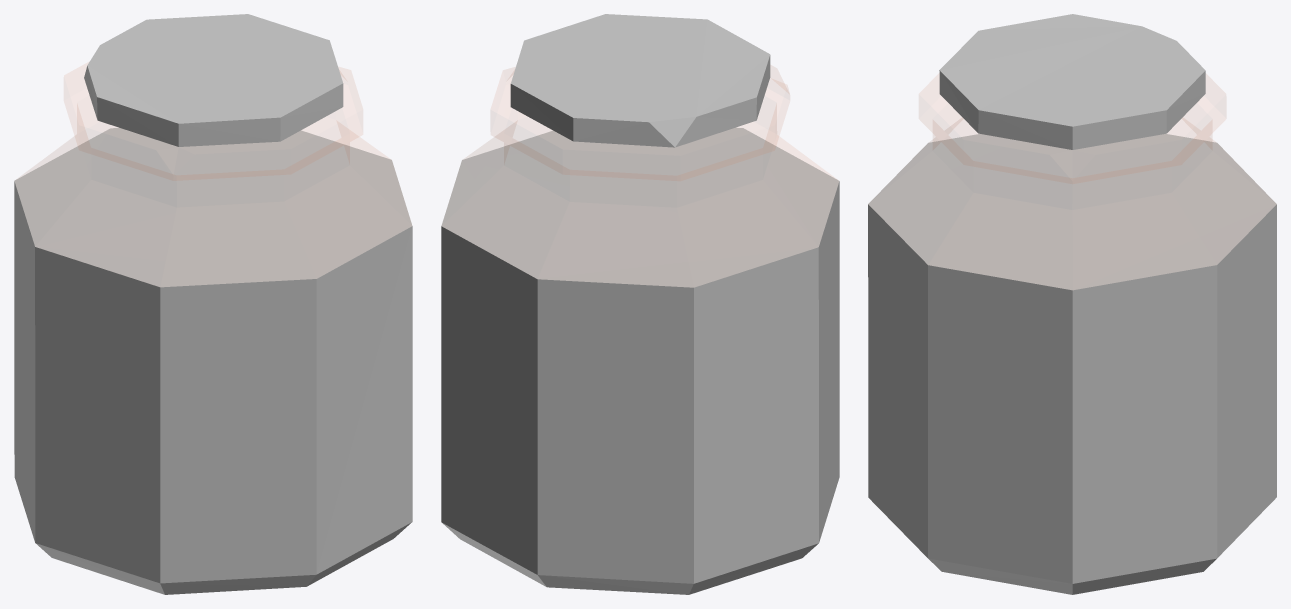
The model's file is SFI_Jar_004.fbx.
3 renders of one model, left to right at view 1: azimuth 30°, elevation 25°; view 2: azimuth 150°, elevation 25°; view 3: azimuth 270°, elevation 25°, orthographic.
Parts seen in each view (by area): view 1: SFI_Jar_004; view 2: SFI_Jar_004; view 3: SFI_Jar_004.
Boxes of the visible parts, x1=… form: SFI_Jar_004: x1=14, y1=14, x2=412, y2=594; SFI_Jar_004: x1=441, y1=14, x2=839, y2=594; SFI_Jar_004: x1=868, y1=14, x2=1276, y2=594.
Bounding box in the file's own units: 10.25 × 12.35 × 10.25.
